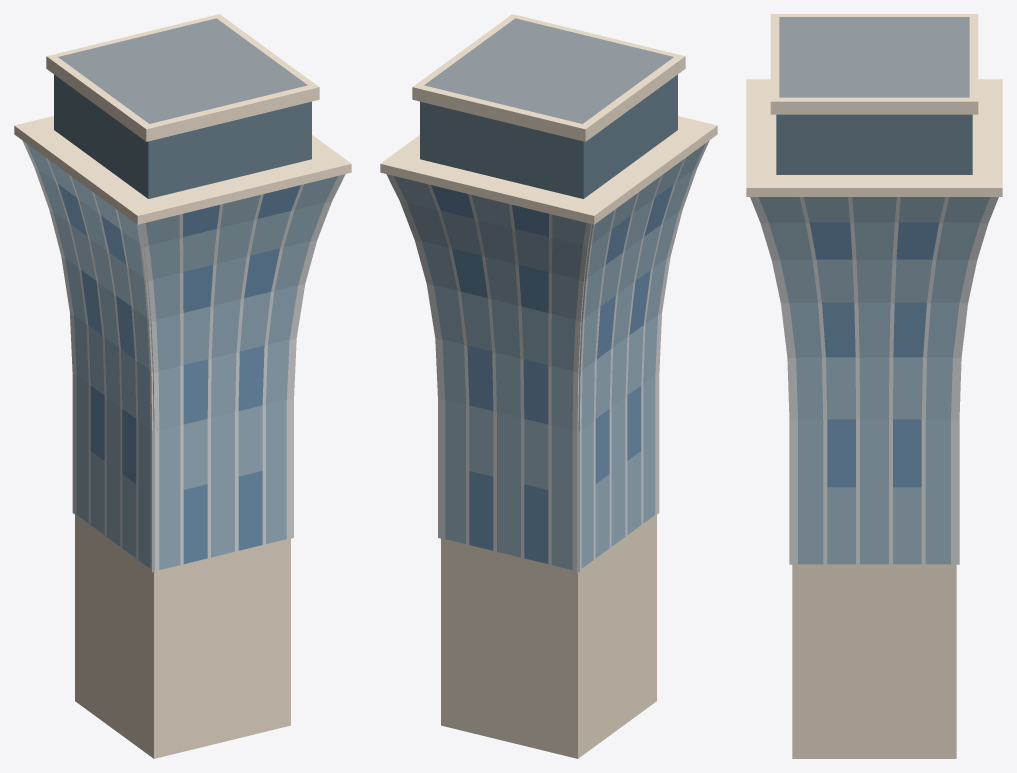
Rendered from atx-mueller-control-tower.glb.
3 views of the same model, side by side, from view 1: azimuth 30°, elevation 25°; view 2: azimuth 150°, elevation 25°; view 3: azimuth 270°, elevation 25° (orthographic). The views are drawn at different scales.
Visible parts, largest first — view 1: Robert Mueller Municipal Airport Control Tower; view 2: Robert Mueller Municipal Airport Control Tower; view 3: Robert Mueller Municipal Airport Control Tower.
Part boxes in pixels (x1,y1,x2,y2): Robert Mueller Municipal Airport Control Tower: (14, 14, 351, 758); Robert Mueller Municipal Airport Control Tower: (380, 14, 717, 758); Robert Mueller Municipal Airport Control Tower: (746, 14, 1002, 758).
Size of the model in its own units: 8.9 by 25.52 by 8.9.
